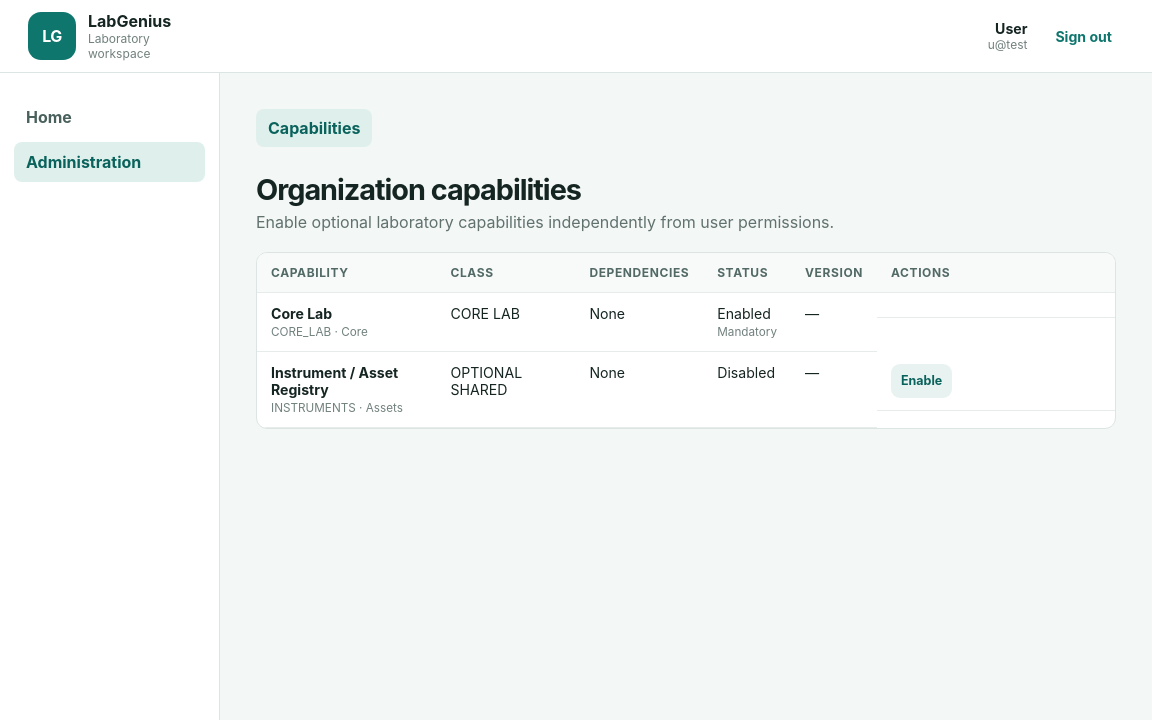
it: keeps capability and permission independent and displays dependency conflicts
The width and height of the screenshot is (1152, 720).
What coordinates should you click on to do the following:
click the button "Enable"
I would click on:
 (922, 381)
Its box is [891,364,952,398].
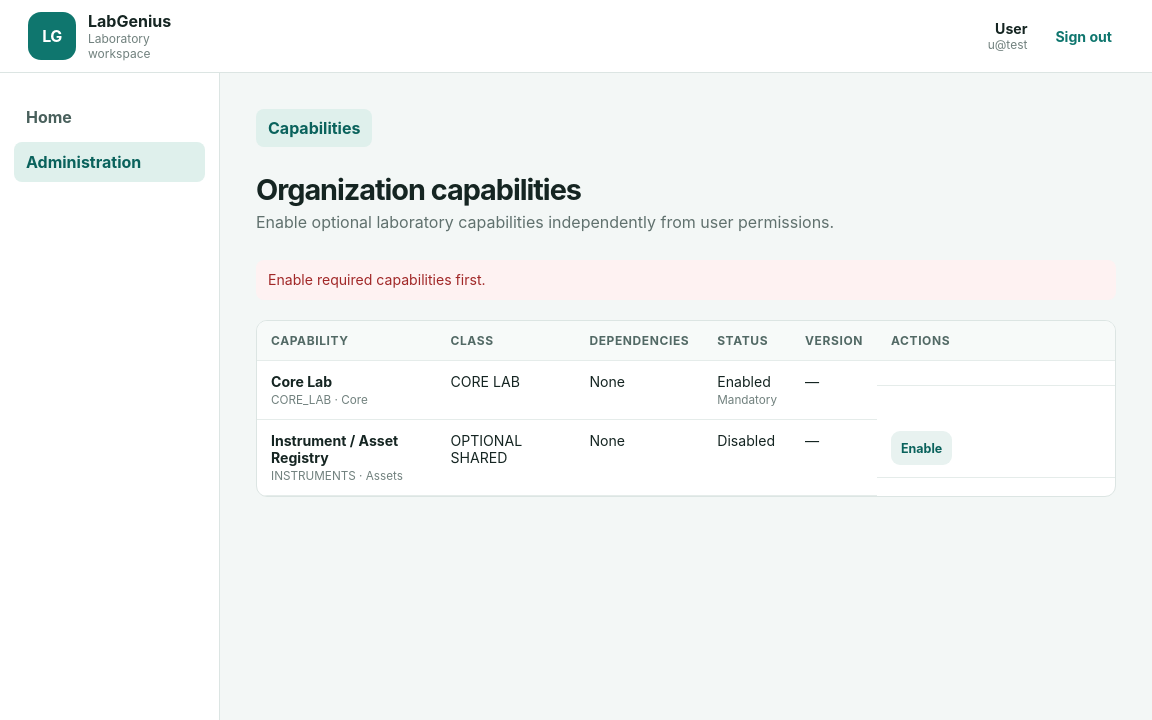
Result: the message shows "Enable required capabilities first" at [268,271,486,288]
